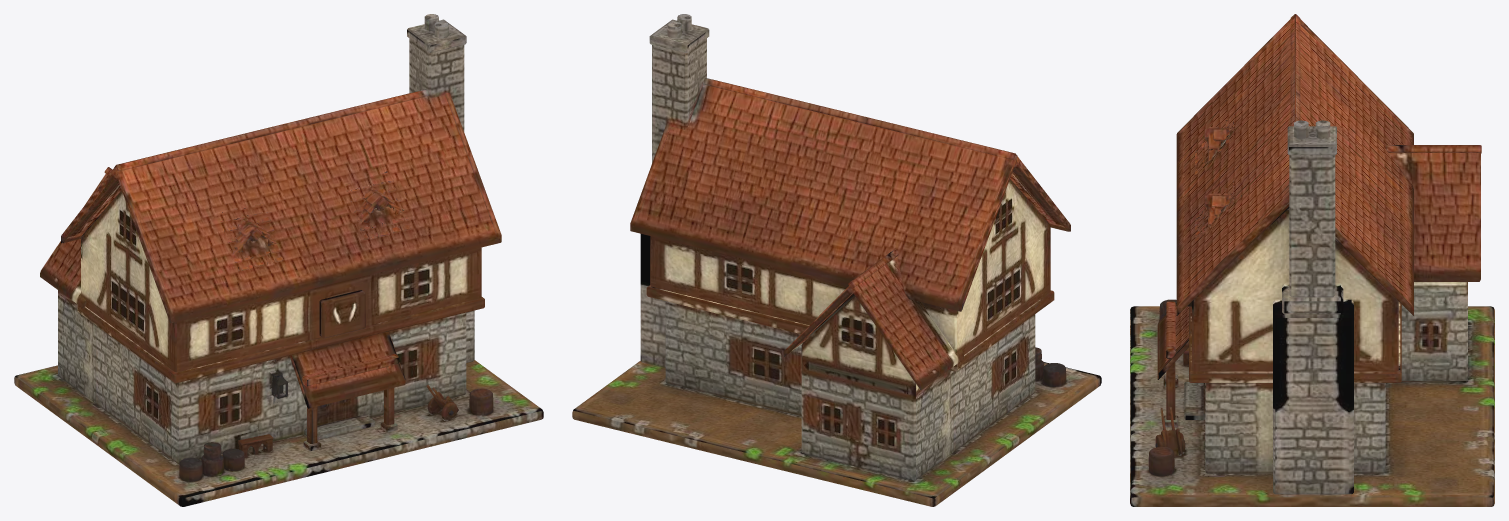
Rendered from tavern.glb.
3 renders of one model, left to right at view 1: azimuth 30°, elevation 25°; view 2: azimuth 150°, elevation 25°; view 3: azimuth 270°, elevation 25°, orthographic. The views are drawn at different scales.
Parts seen in each view (by area): view 1: building_tavern; view 2: building_tavern; view 3: building_tavern.
Part boxes in pixels (left/top/right/bottom): building_tavern: left=14, top=14, right=543, bottom=506; building_tavern: left=572, top=14, right=1101, bottom=506; building_tavern: left=1130, top=14, right=1494, bottom=506.
Size of the model in its own units: 10.58 by 9.56 by 8.5.
Materials: 1 (1 with a texture image).
